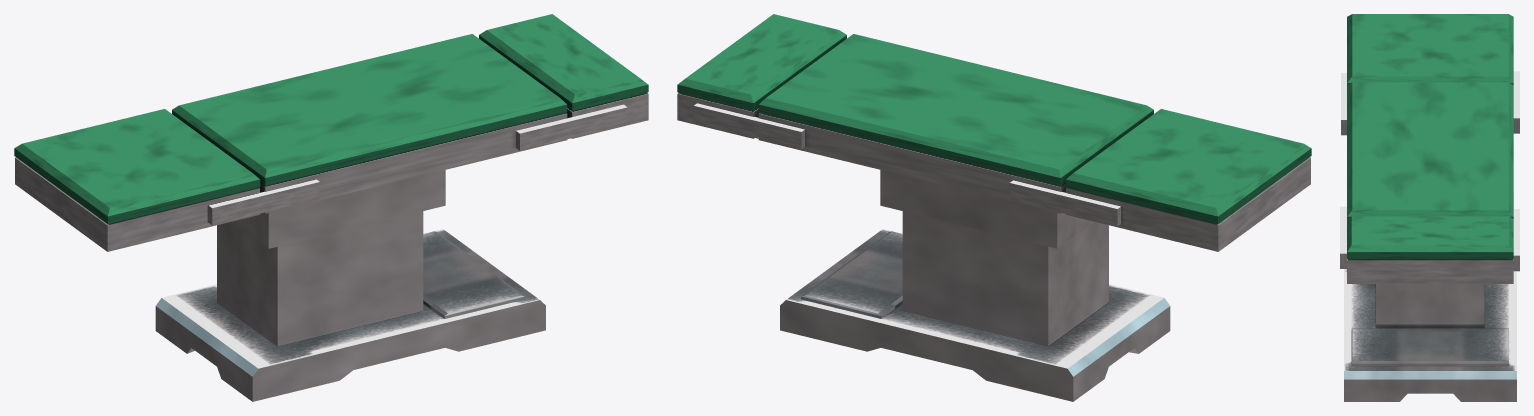
The model's file is table.fbx.
3 views of the same model, side by side, from view 1: azimuth 30°, elevation 25°; view 2: azimuth 150°, elevation 25°; view 3: azimuth 270°, elevation 25° (orthographic). The views are drawn at different scales.
Visible parts, largest first — view 1: 立方体, Cube, Cube.002, Cube.001, Cube.004, Cube.003, Cube.008, Cube.009, Cube.005; view 2: 立方体, Cube, Cube.002, Cube.001, Cube.004, Cube.003, Cube.007, Cube.006, Cube.005; view 3: Cube, 立方体, Cube.002, Cube.001, Cube.005, Cube.007, Cube.008, Cube.006, Cube.009.
Boxes of the visible parts, x1,y1,x2,y2 form: 立方体: (155, 170, 545, 401); Cube: (172, 34, 567, 185); Cube.002: (14, 109, 260, 224); Cube.001: (479, 14, 648, 110); Cube.004: (259, 112, 567, 213); Cube.003: (15, 157, 259, 251); Cube.008: (516, 104, 627, 150); Cube.009: (208, 179, 319, 225); Cube.005: (566, 93, 648, 138); 立方体: (780, 170, 1170, 401); Cube: (758, 34, 1153, 185); Cube.002: (1065, 109, 1311, 224); Cube.001: (677, 14, 846, 110); Cube.004: (758, 112, 1066, 213); Cube.003: (1066, 157, 1310, 251); Cube.007: (1009, 180, 1121, 226); Cube.006: (693, 103, 804, 149); Cube.005: (677, 93, 759, 138); Cube: (1347, 82, 1513, 218); 立方体: (1344, 269, 1516, 401); Cube.002: (1347, 14, 1513, 84); Cube.001: (1347, 216, 1513, 258); Cube.005: (1347, 259, 1513, 283); Cube.007: (1513, 71, 1519, 133); Cube.008: (1340, 206, 1346, 268); Cube.006: (1513, 209, 1519, 271); Cube.009: (1341, 73, 1346, 135).
Size of the model in its own units: 2130 by 845 by 688.
Materials: 2 (2 with a texture image).
